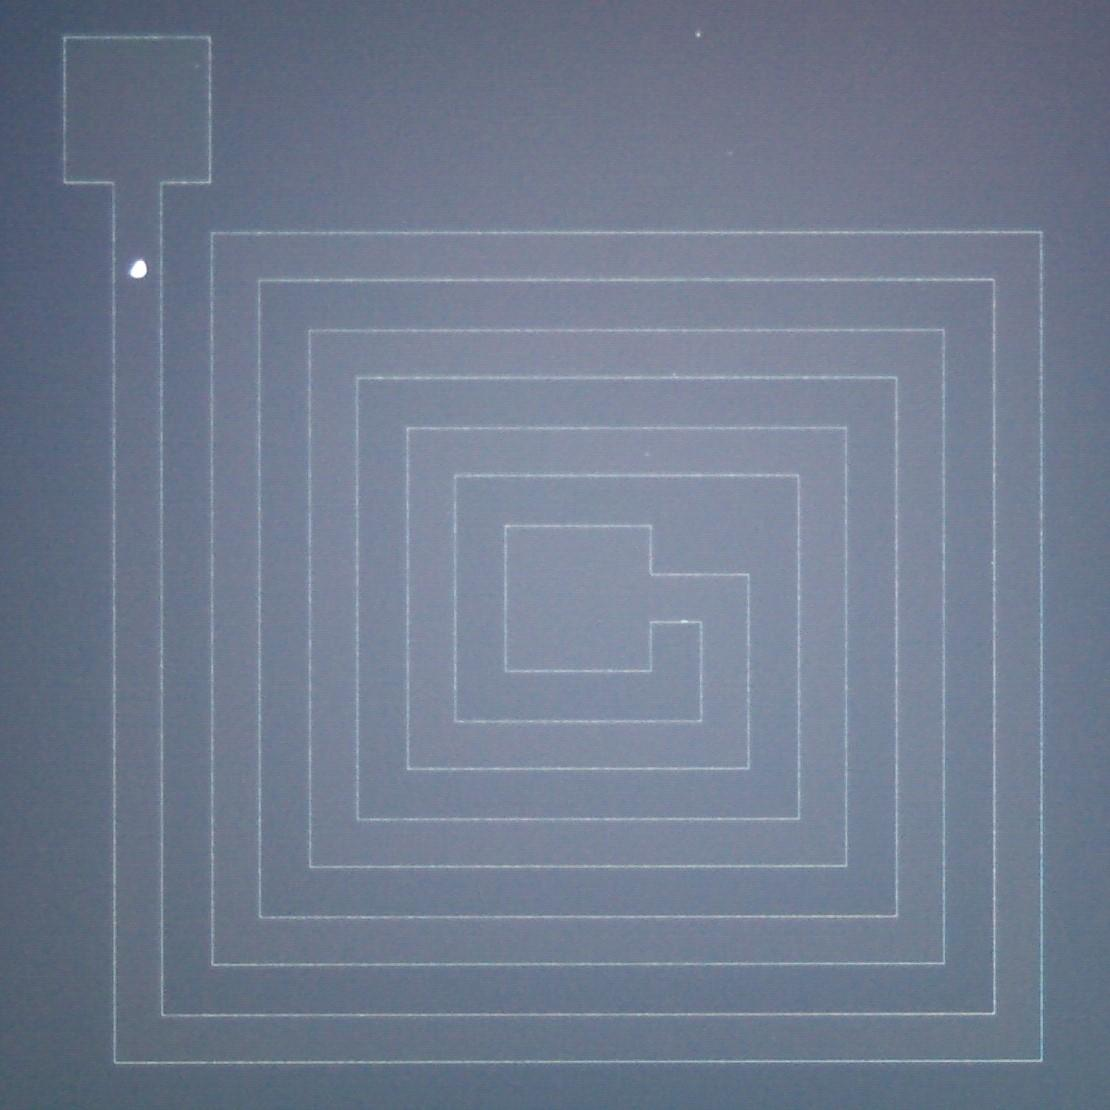B_point: (124, 254, 152, 284)
s_point: (687, 24, 710, 47), (719, 142, 742, 163), (637, 445, 658, 464), (664, 366, 684, 382)
